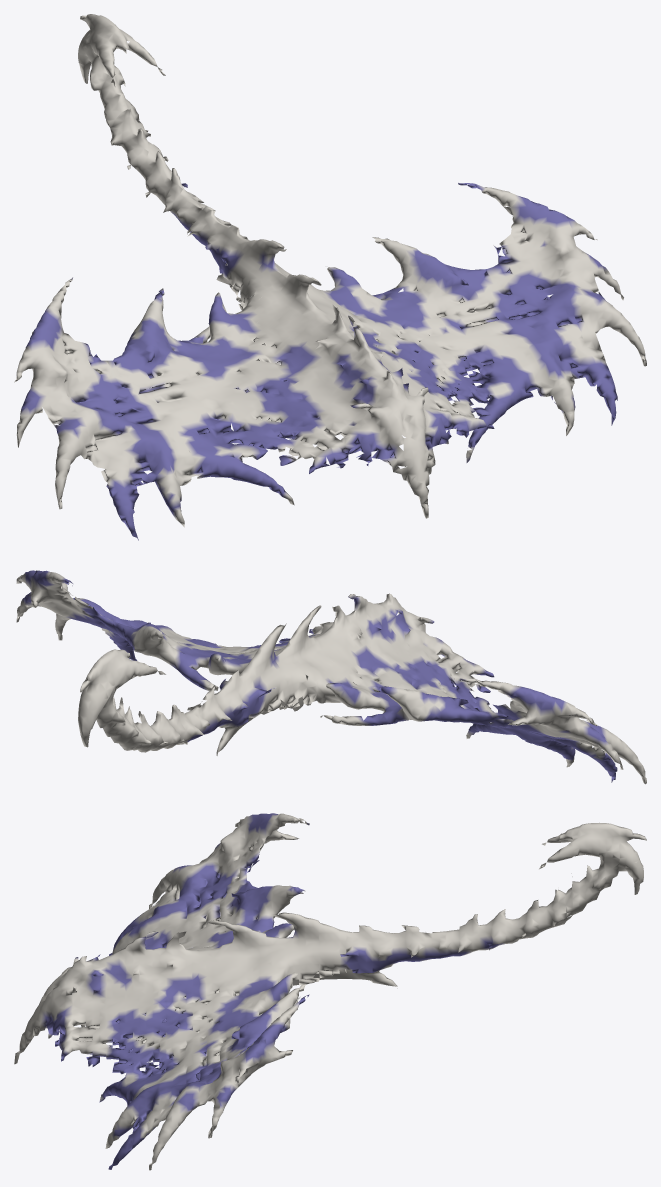
The model's file is mon3d.glb.
The picture shows the model from 3 angles, top to bottom: view 1: azimuth 30°, elevation 25°; view 2: azimuth 150°, elevation 25°; view 3: azimuth 270°, elevation 25°; orthographic projection. The views are drawn at different scales.
Size of the model in its own units: 1.96 by 0.8257 by 1.94.
